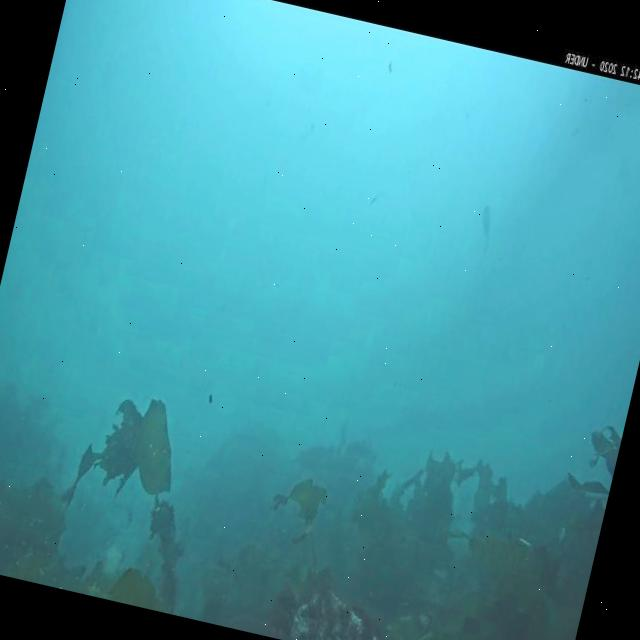fish: (469, 202, 498, 261)
